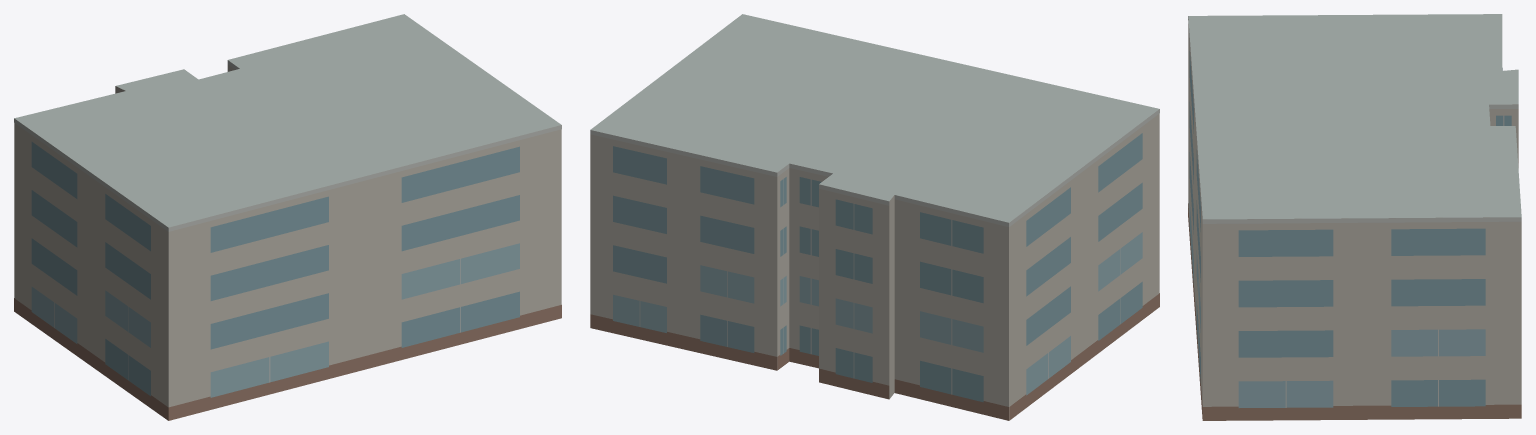
The model's file is survey-upis-32841103.glb.
3 renders of one model, left to right at view 1: azimuth 30°, elevation 25°; view 2: azimuth 150°, elevation 25°; view 3: azimuth 270°, elevation 25°, orthographic. The views are drawn at different scales.
Visible parts, largest first — view 1: survey-upis-32841103.tmp; view 2: survey-upis-32841103.tmp; view 3: survey-upis-32841103.tmp.
Part boxes in pixels (x1=…): survey-upis-32841103.tmp: x1=14, y1=14, x2=561, y2=420; survey-upis-32841103.tmp: x1=590, y1=14, x2=1159, y2=420; survey-upis-32841103.tmp: x1=1188, y1=14, x2=1521, y2=420.
Bounding box in the file's own units: 24.07 × 11 × 16.51.
